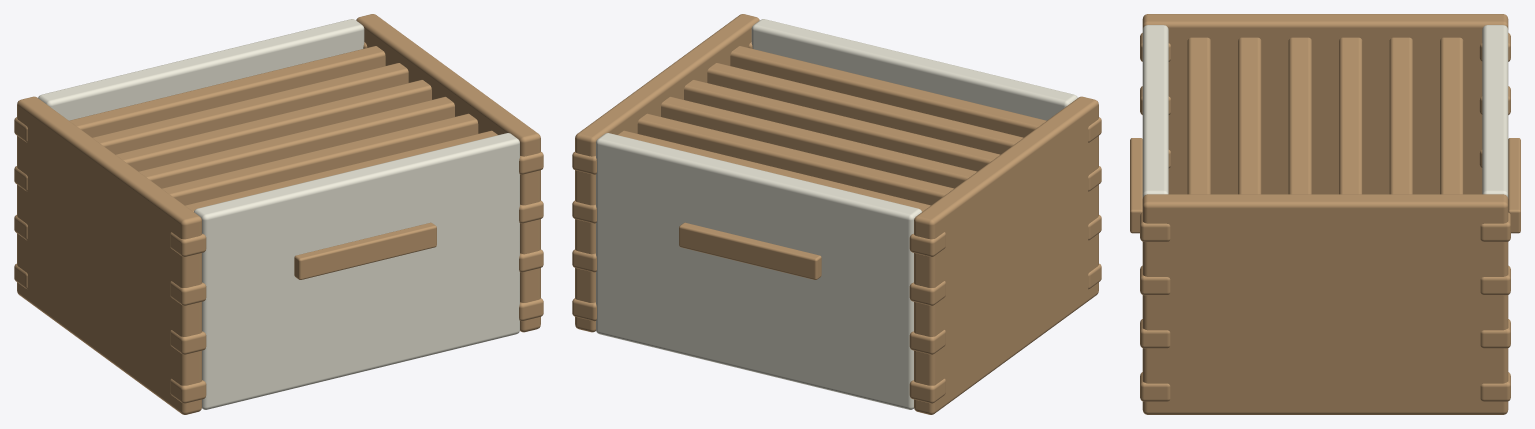
File: beekeeping-and-honey-farm-brood-box-842bb55c__30699.glb
The picture shows the model from 3 angles, left to right: view 1: azimuth 30°, elevation 25°; view 2: azimuth 150°, elevation 25°; view 3: azimuth 270°, elevation 25°; orthographic projection. The views are drawn at different scales.
Visible parts, largest first — view 1: brood-box; view 2: brood-box; view 3: brood-box.
Part boxes in pixels (x1,y1,x2,y2): brood-box: [14, 14, 543, 414]; brood-box: [572, 14, 1101, 414]; brood-box: [1130, 14, 1520, 414].
Bounding box in the file's own units: 0.524 × 0.27 × 0.449.
